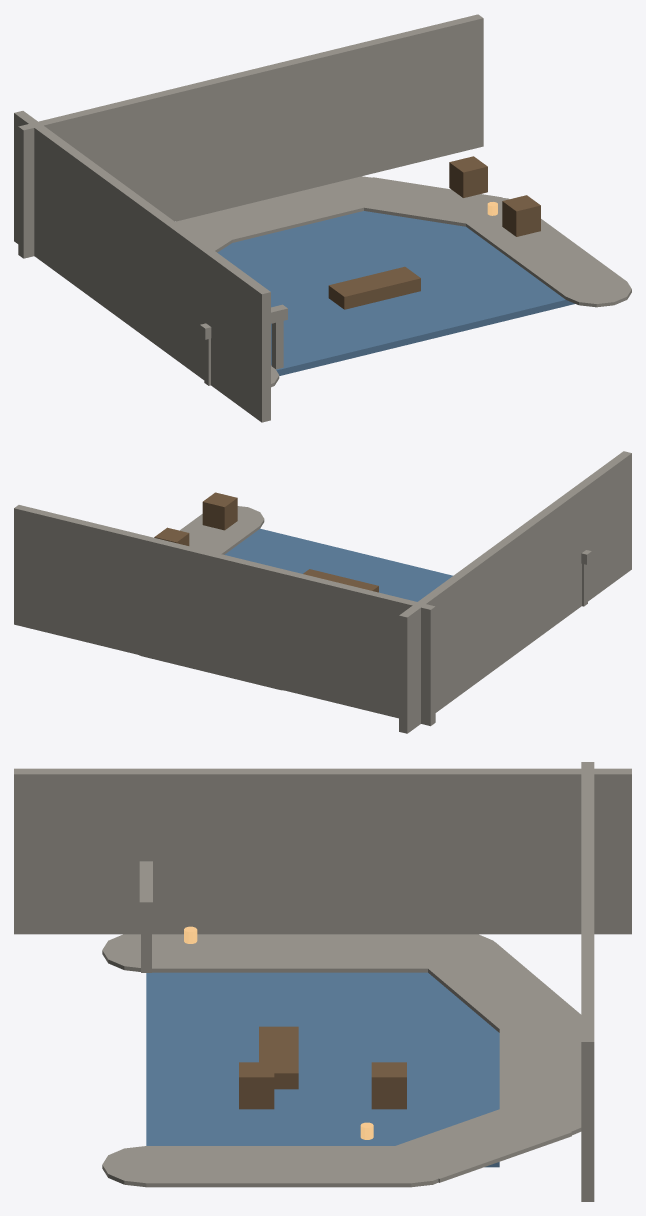
3 views of the same model, one above another, from view 1: azimuth 30°, elevation 25°; view 2: azimuth 150°, elevation 25°; view 3: azimuth 270°, elevation 25° (orthographic). The views are drawn at different scales.
Parts seen in each view (by area): view 1: wall_back.003, wall_left.003, water, walk_seg.035, walk_seg.033, walk_seg.034, boat, walk_node.046, walk_node.044, winch_l, winch_r, walk_node.043 (+3 smaller); view 2: wall_back.003, wall_left.003, water, walk_seg.035, winch_l, walk_node.046, boat, winch_r; view 3: wall_left.003, water, walk_seg.031, walk_seg.035, walk_seg.034, walk_seg.032, wall_back.003, walk_seg.033, walk_node.046, walk_node.045, walk_node.042, walk_node.041 (+7 smaller).
Boxes of the visible parts, x1,y1,x2,y2 form: wall_back.003: (18, 14, 483, 258); wall_left.003: (14, 111, 270, 422); water: (217, 211, 574, 375); walk_seg.035: (460, 208, 626, 299); walk_seg.033: (193, 180, 377, 242); walk_seg.034: (349, 177, 502, 226); boat: (328, 266, 420, 309); walk_node.046: (561, 274, 631, 307); walk_node.044: (325, 176, 395, 205); winch_l: (502, 195, 540, 236); winch_r: (449, 156, 487, 197); walk_node.043: (176, 213, 242, 243); wall_back.003: (14, 505, 435, 726); wall_left.003: (399, 451, 631, 733); water: (224, 528, 452, 601); walk_seg.035: (180, 514, 260, 554); winch_l: (202, 492, 237, 530); walk_node.046: (200, 506, 264, 532); boat: (303, 569, 378, 592); winch_r: (154, 527, 189, 545); wall_left.003: (14, 768, 631, 934); water: (146, 972, 499, 1167); walk_seg.031: (152, 934, 455, 972); walk_seg.035: (146, 1146, 411, 1187); walk_seg.034: (383, 1103, 571, 1182); walk_seg.032: (425, 941, 581, 1032); wall_back.003: (581, 762, 594, 1201); walk_seg.033: (499, 1029, 581, 1108); walk_node.046: (102, 1146, 190, 1187); walk_node.045: (367, 1147, 453, 1187); walk_node.042: (411, 934, 499, 968); walk_node.041: (102, 934, 190, 971).
Size of the model in its own units: 30 by 8.6 by 28.
